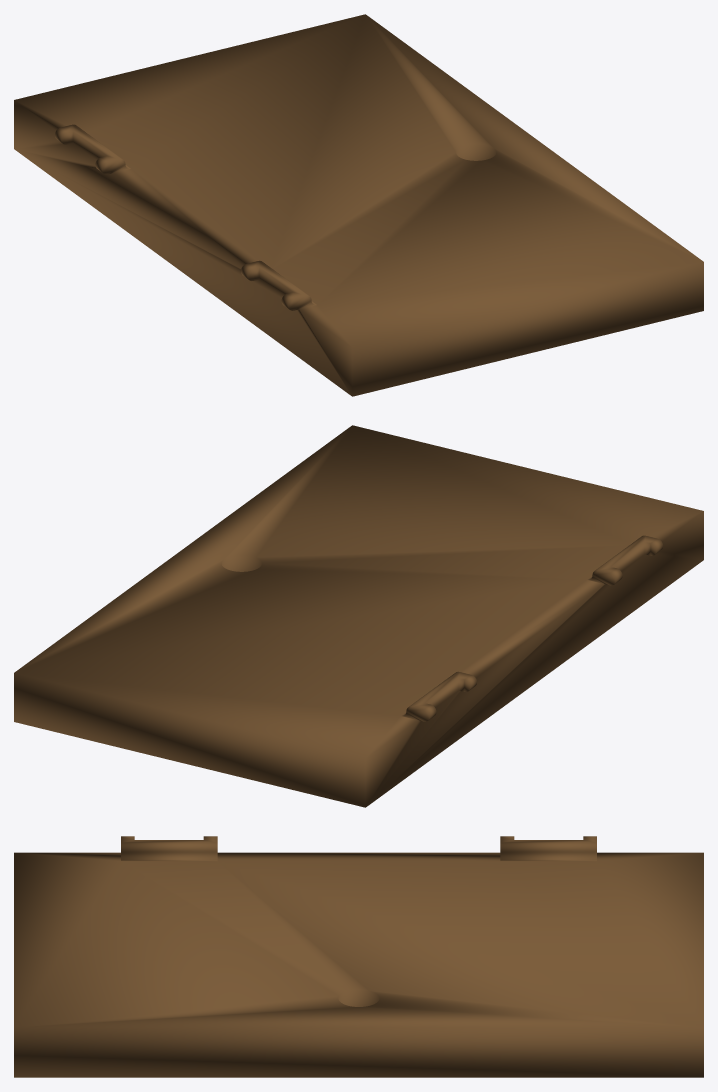
File: door.dae
3 renders of one model, top to bottom at view 1: azimuth 30°, elevation 25°; view 2: azimuth 150°, elevation 25°; view 3: azimuth 270°, elevation 25°, orthographic.
Visible parts, largest first — view 1: door; view 2: door; view 3: door.
Boxes of the visible parts, bbox=[...] form: door: bbox=[14, 14, 703, 396]; door: bbox=[14, 425, 703, 807]; door: bbox=[14, 836, 703, 1077].
Bounding box in the file's own units: 0.31 × 0.5 × 0.05.
